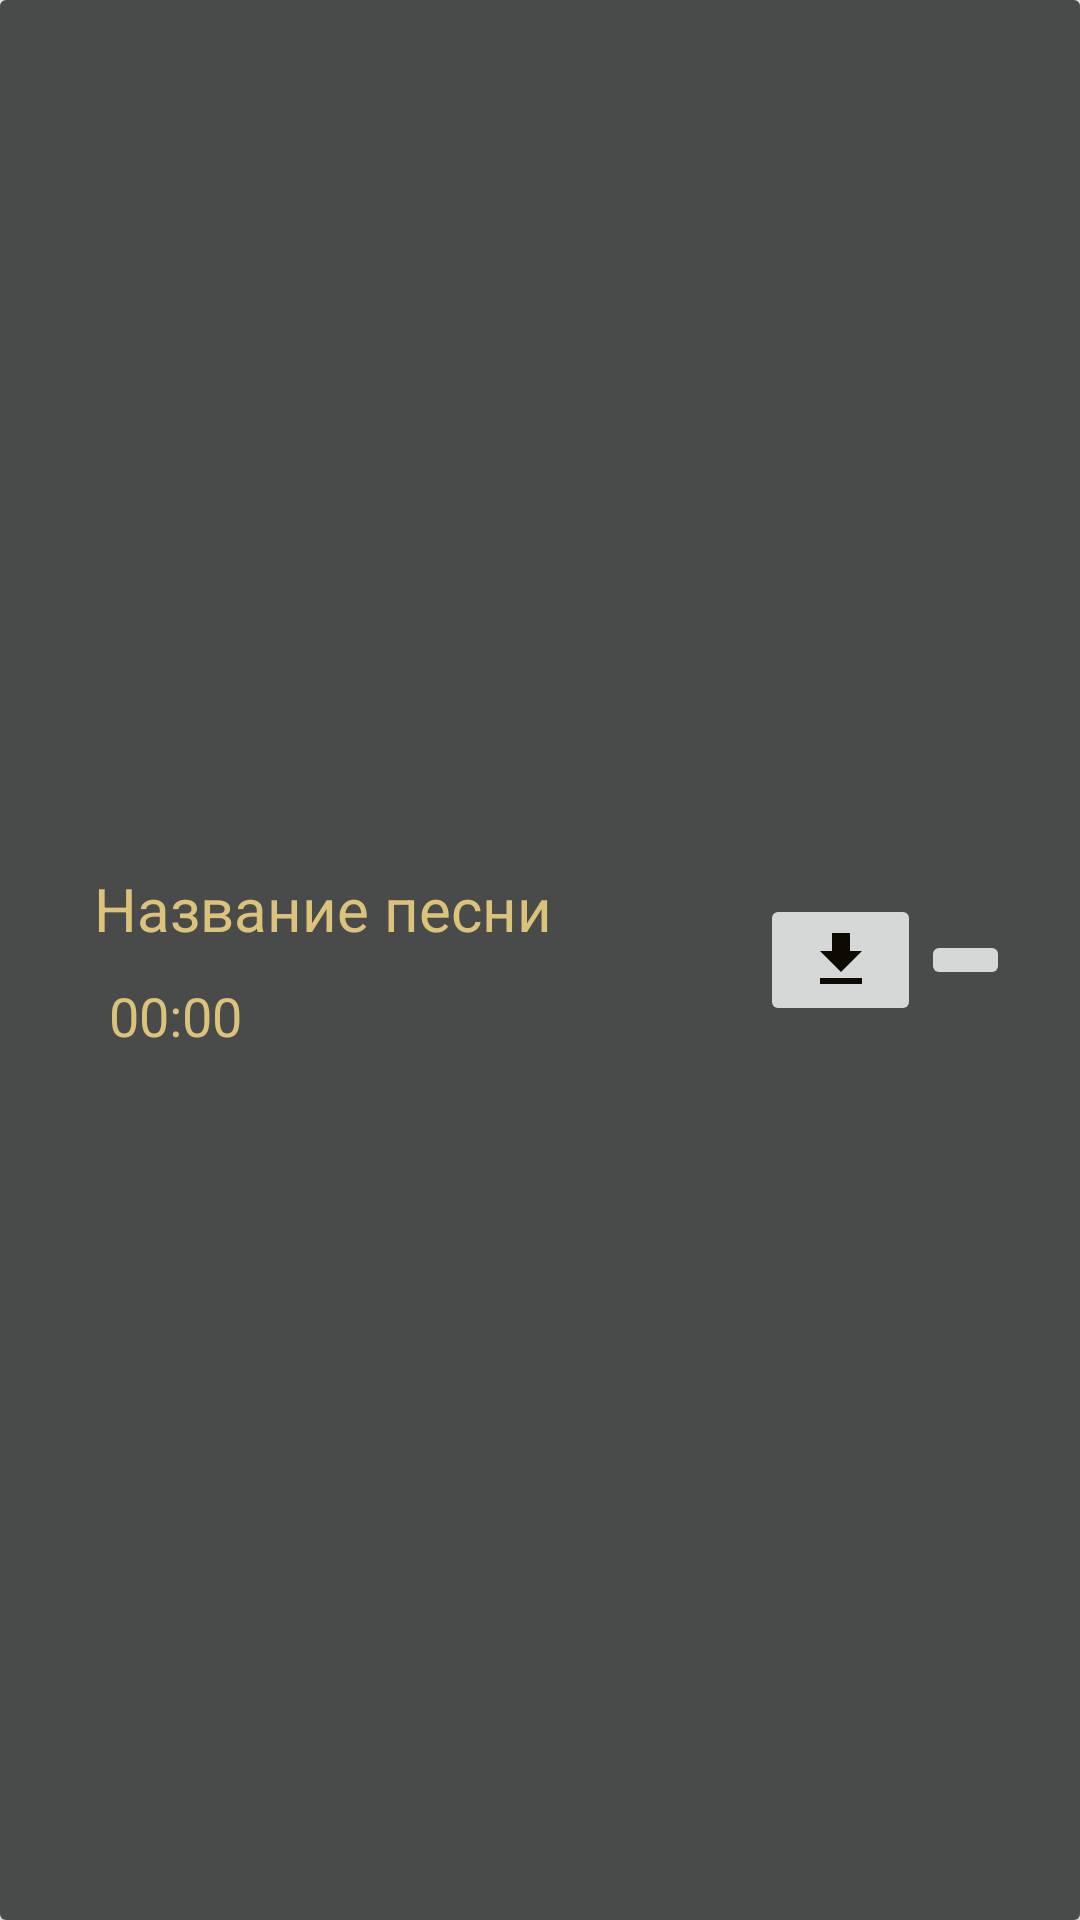

Named icons in this screenshot (1080x1920) and their centers, (x,y):
file download: (840,960)
